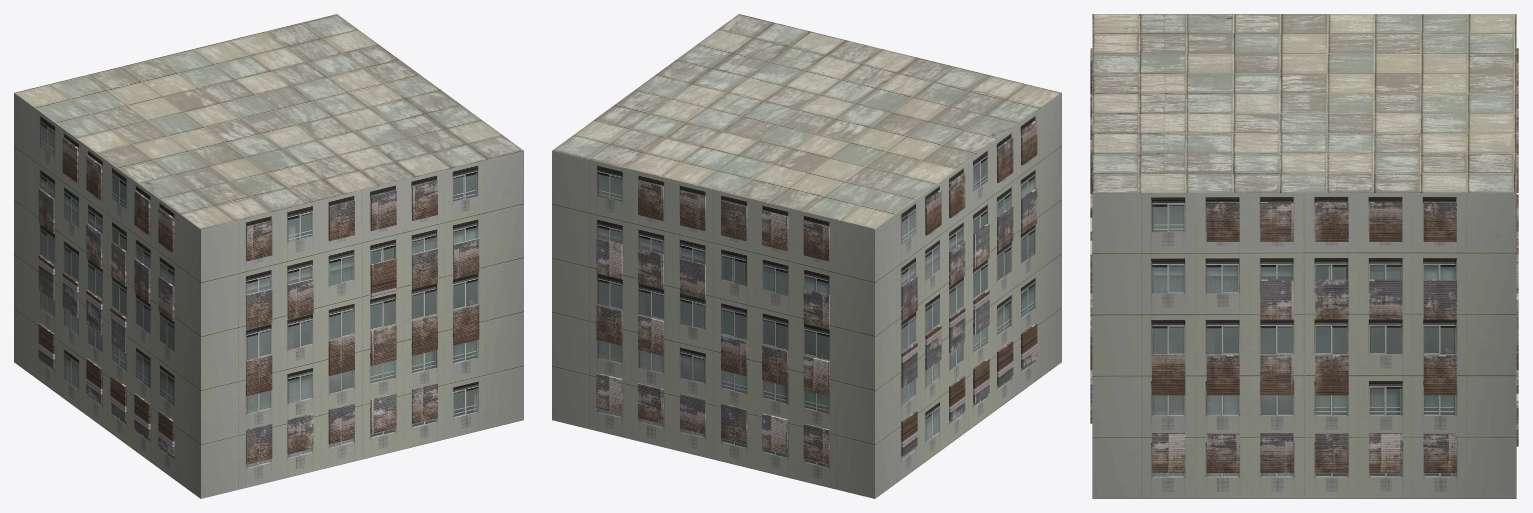
File: BagSS03mid_100.fbx
The picture shows the model from 3 angles, left to right: view 1: azimuth 30°, elevation 25°; view 2: azimuth 150°, elevation 25°; view 3: azimuth 270°, elevation 25°; orthographic projection. The views are drawn at different scales.
Visible parts, largest first — view 1: minBox100, midRoof100, midWindows100; view 2: minBox100, midRoof100, midWindows100; view 3: minBox100, midRoof100, midWindows100.
Boxes of the visible parts, x1,y1,x2,y2 form: minBox100: (14, 93, 523, 498); midRoof100: (14, 14, 523, 229); midWindows100: (38, 137, 479, 464); minBox100: (552, 93, 1061, 498); midRoof100: (552, 14, 1061, 229); midWindows100: (596, 120, 1037, 464); minBox100: (1092, 193, 1516, 498); midRoof100: (1092, 14, 1516, 192); midWindows100: (1090, 48, 1518, 472).
Bounding box in the file's own units: 20.65 × 16.28 × 20.65.
